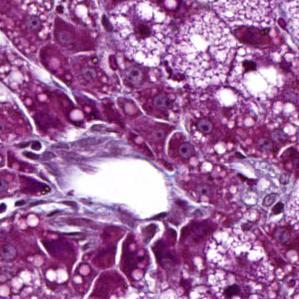ballooning: (104, 2, 173, 71), (226, 46, 287, 102)
